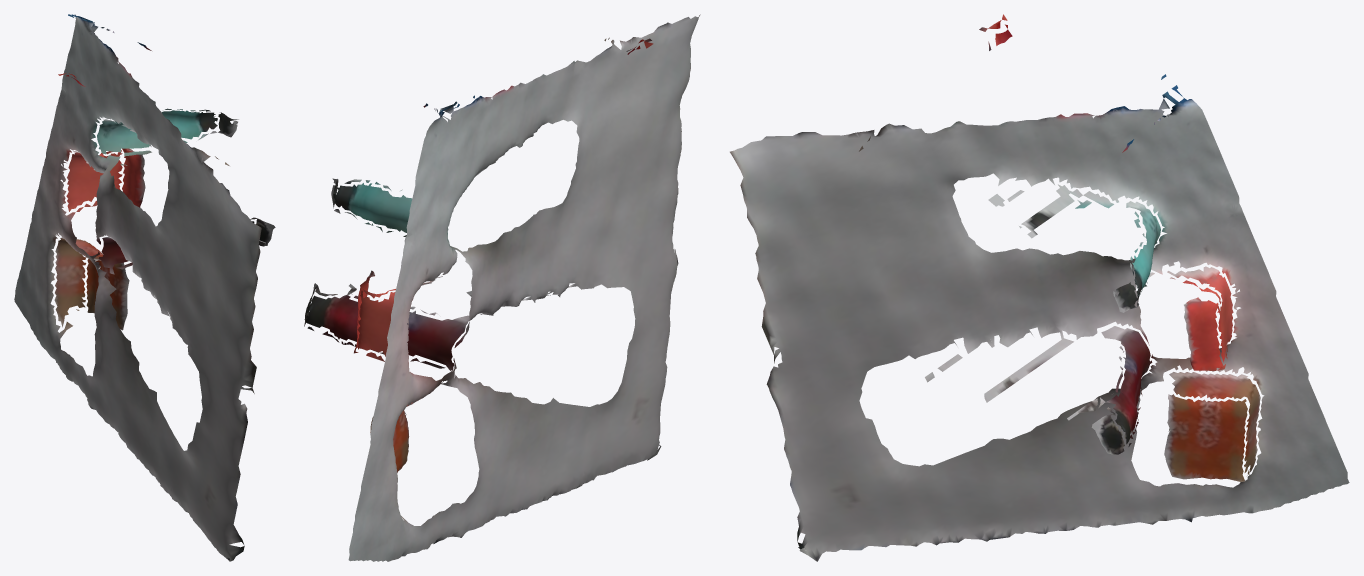
3 renders of one model, left to right at view 1: azimuth 30°, elevation 25°; view 2: azimuth 150°, elevation 25°; view 3: azimuth 270°, elevation 25°, orthographic. The views are drawn at different scales.
Size of the model in its own units: 0.4497 by 0.7464 by 0.8397.
